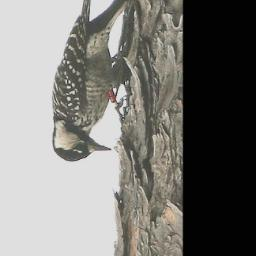Woodpecker: (52, 0, 135, 162)
